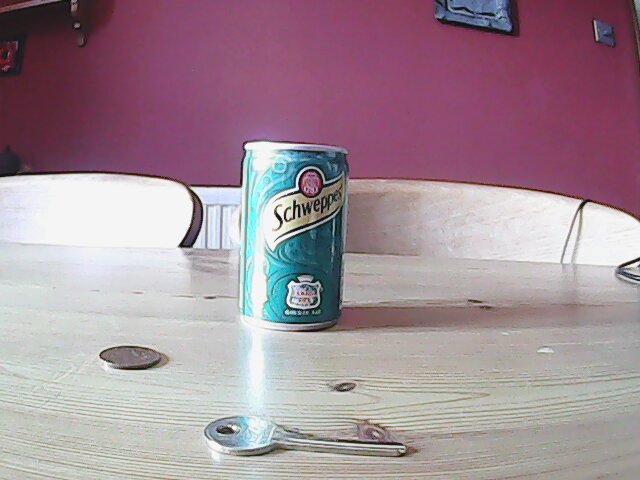Can: (238, 136, 352, 331)
Coin: (95, 340, 165, 372)
Key: (203, 413, 408, 461)
